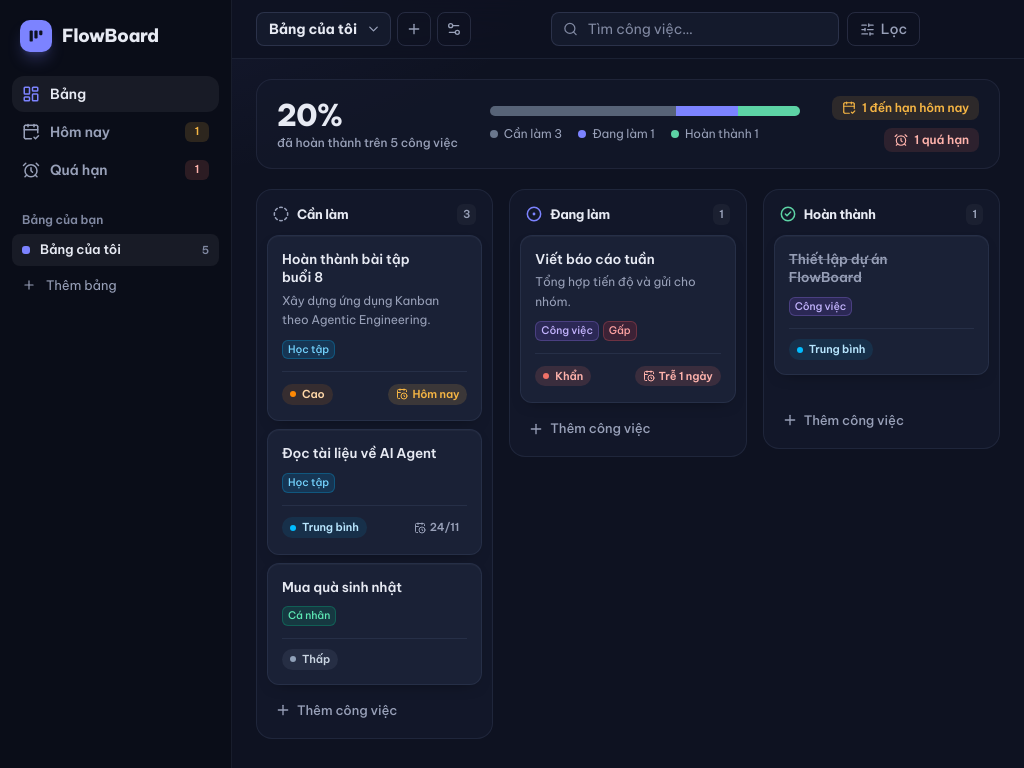
Test case: M10 review fixes › an empty board says so instead of “0% … trên 0 công việc”
Step 1. Click the button named "Bảng mới" → (414,29), box [397, 12, 431, 46]
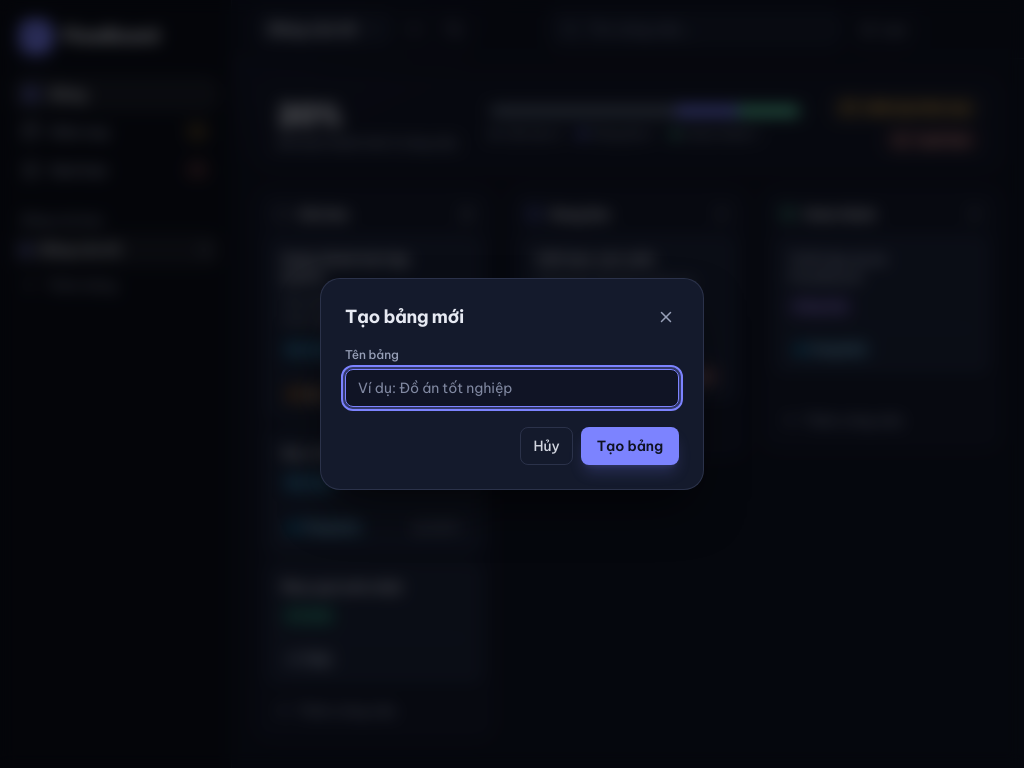
Step 2. Type "Trống" into the field labelled "Tên bảng" → (512,388), box [345, 369, 679, 407]
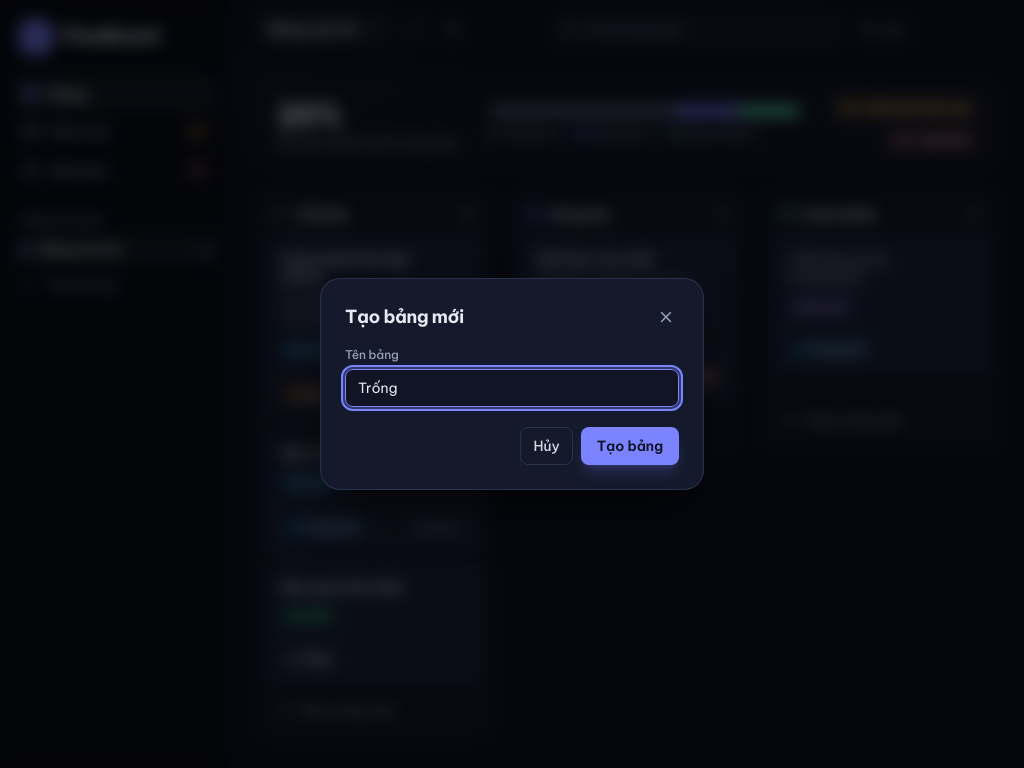
Step 3. Click the button "Tạo bảng" → (630,446), box [581, 427, 679, 465]
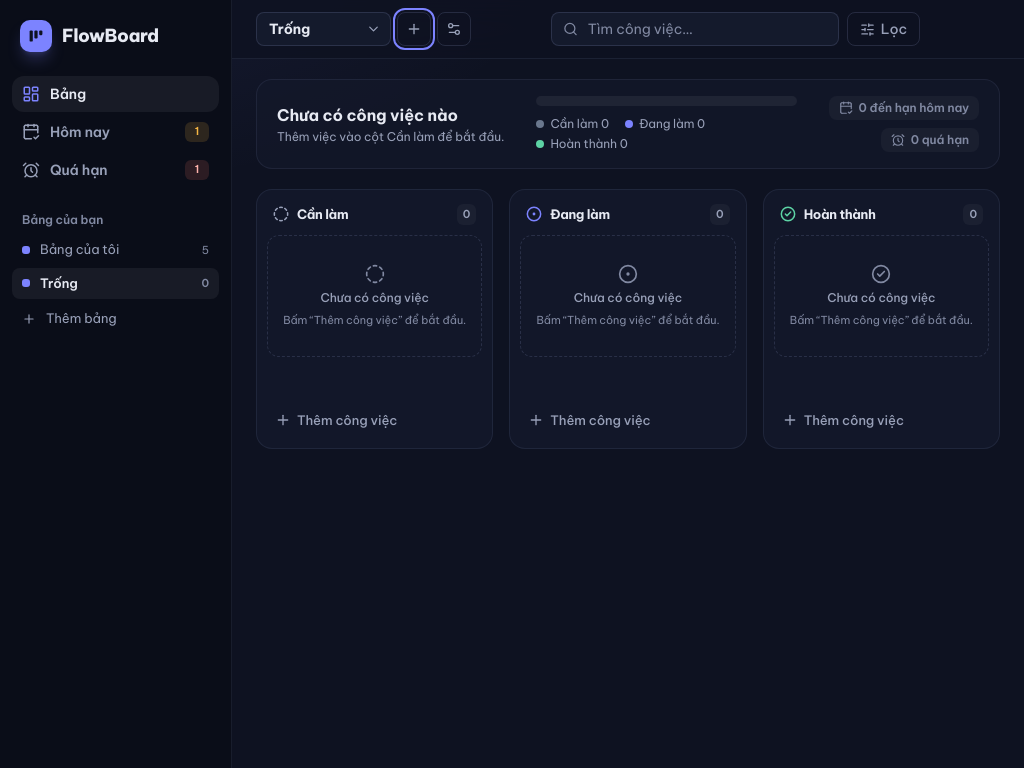
Result: the text "Chưa có công việc nào" is shown at [277, 105, 458, 125]
